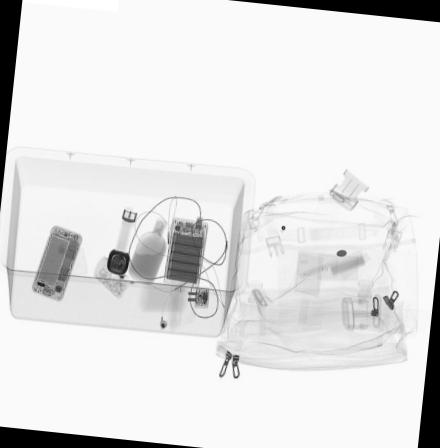Powerbank: (164, 219, 211, 287)
